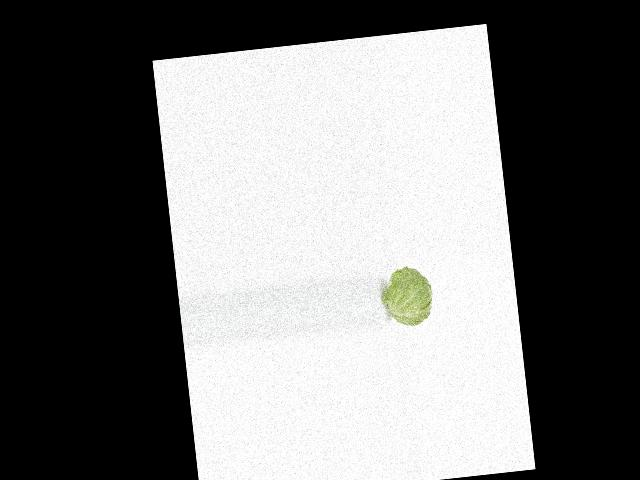lettuce: (385, 262, 436, 331)
